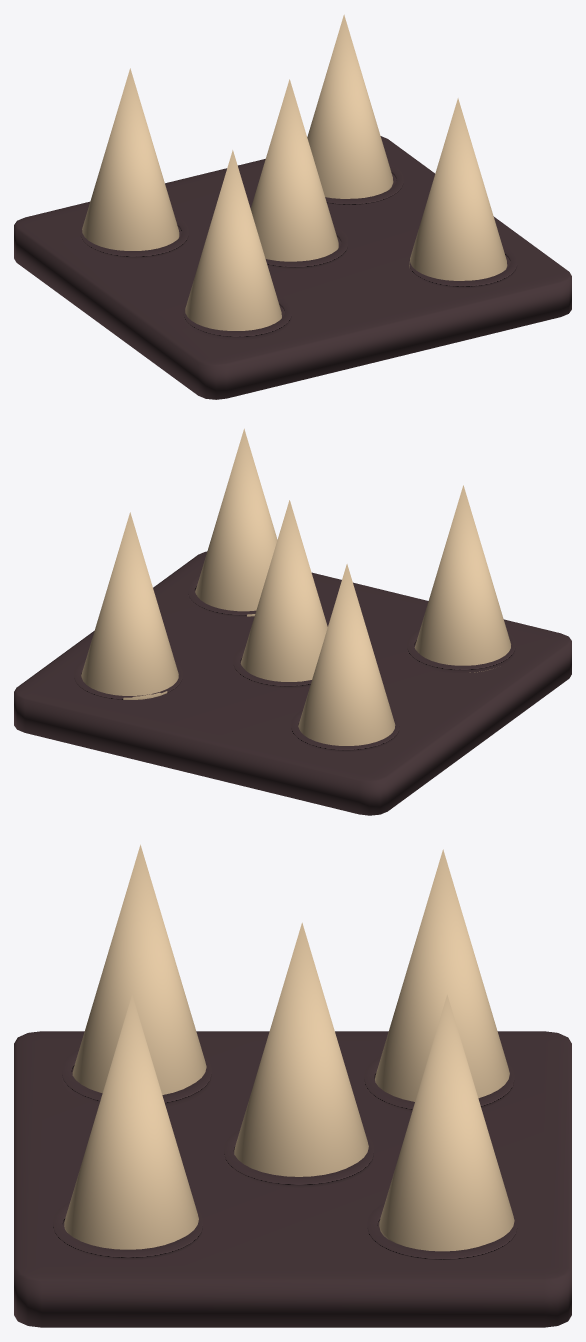
The model's file is SpikesPlatform(Strange).fbx.
The picture shows the model from 3 angles, top to bottom: view 1: azimuth 30°, elevation 25°; view 2: azimuth 150°, elevation 25°; view 3: azimuth 270°, elevation 25°; orthographic projection. The views are drawn at different scales.
Visible parts, largest first — view 1: Cube, Cono.005; view 2: Cube, Cono.005; view 3: Cube, Cono.005.
Boxes of the visible parts, x1,y1,x2,y2 form: Cube: [14, 136, 571, 399]; Cono.005: [82, 14, 507, 330]; Cube: [14, 551, 571, 815]; Cono.005: [81, 428, 510, 745]; Cube: [14, 1031, 571, 1327]; Cono.005: [64, 844, 514, 1251].
Size of the model in its own units: 2.13 by 1.13 by 2.01.
